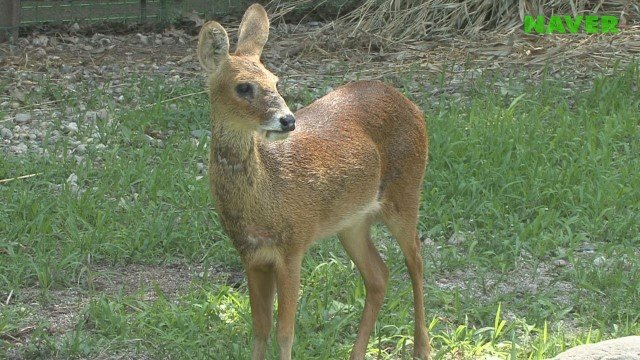elk: (197, 2, 437, 357)
